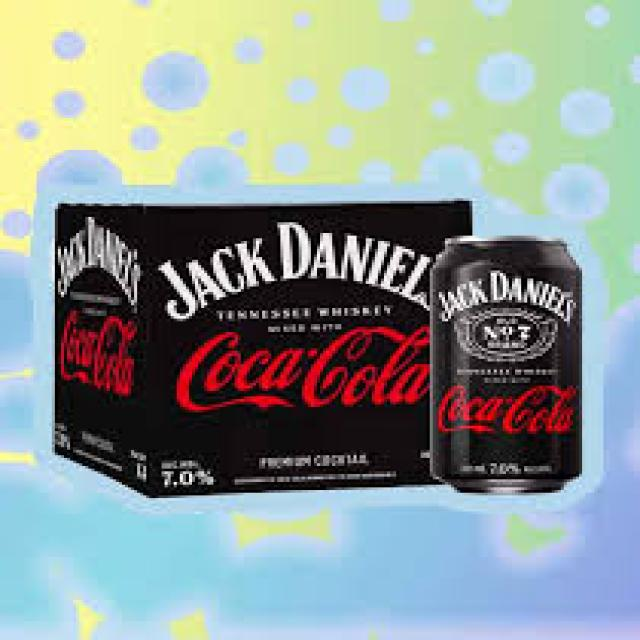Cans: (414, 225, 598, 506)
